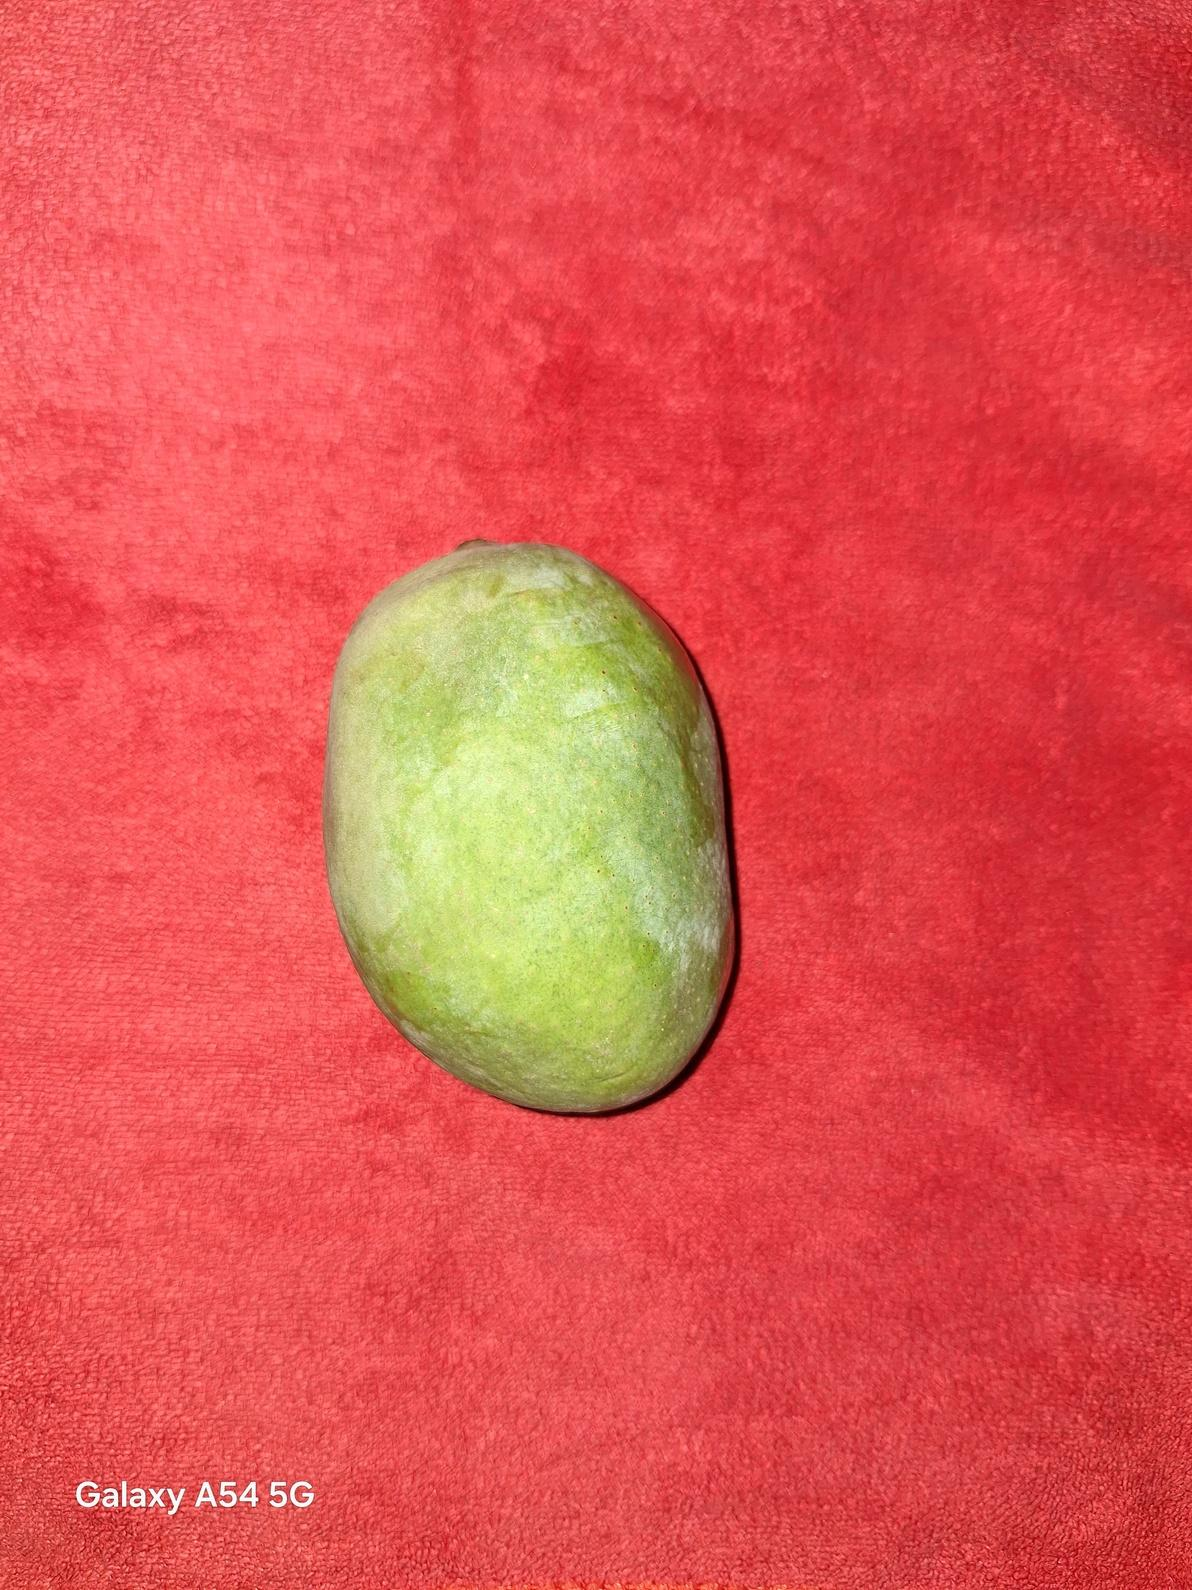mango: (321, 535, 736, 1116)
